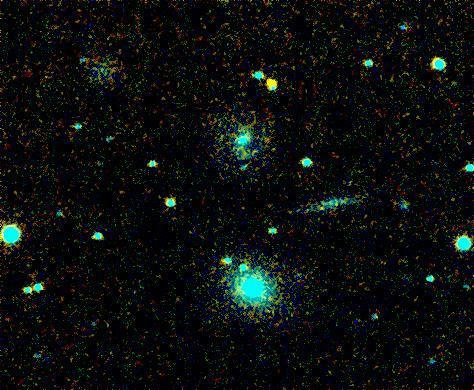star: (258, 68, 288, 98)
